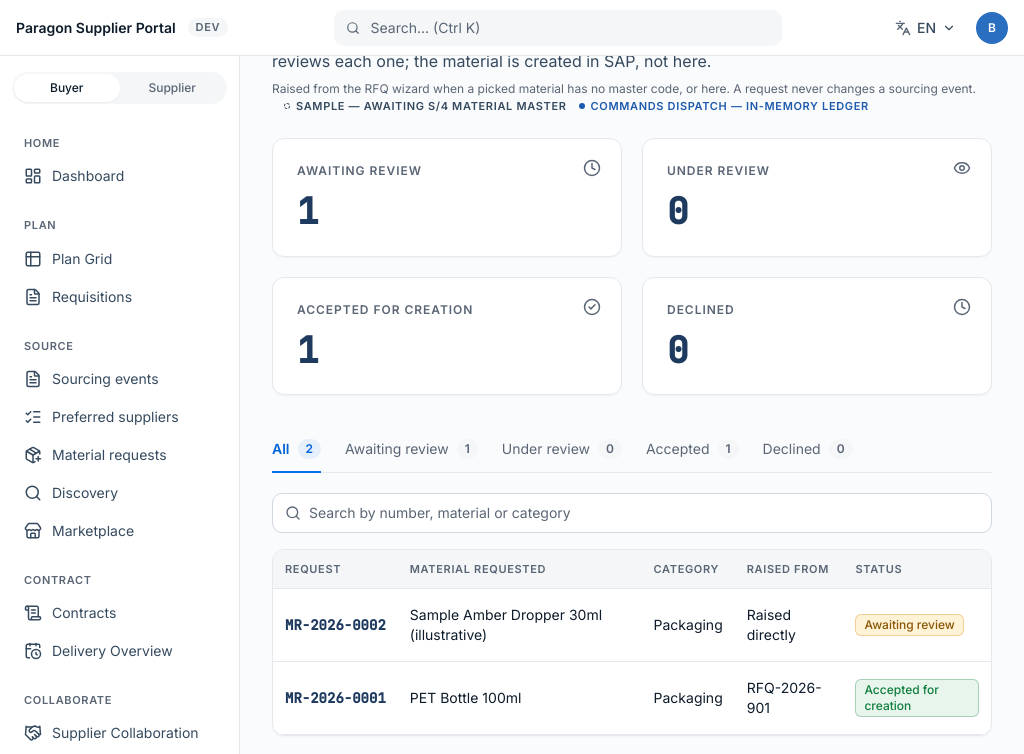
Test: the review and decision acts, per verb › ⚠️ AND THE OUTCOME LINE NEVER READS AS "CREATED"
(page scrolled)
Click the text "MR-2026-0001" at (632, 698), box [273,662,991,735]
(page scrolled)
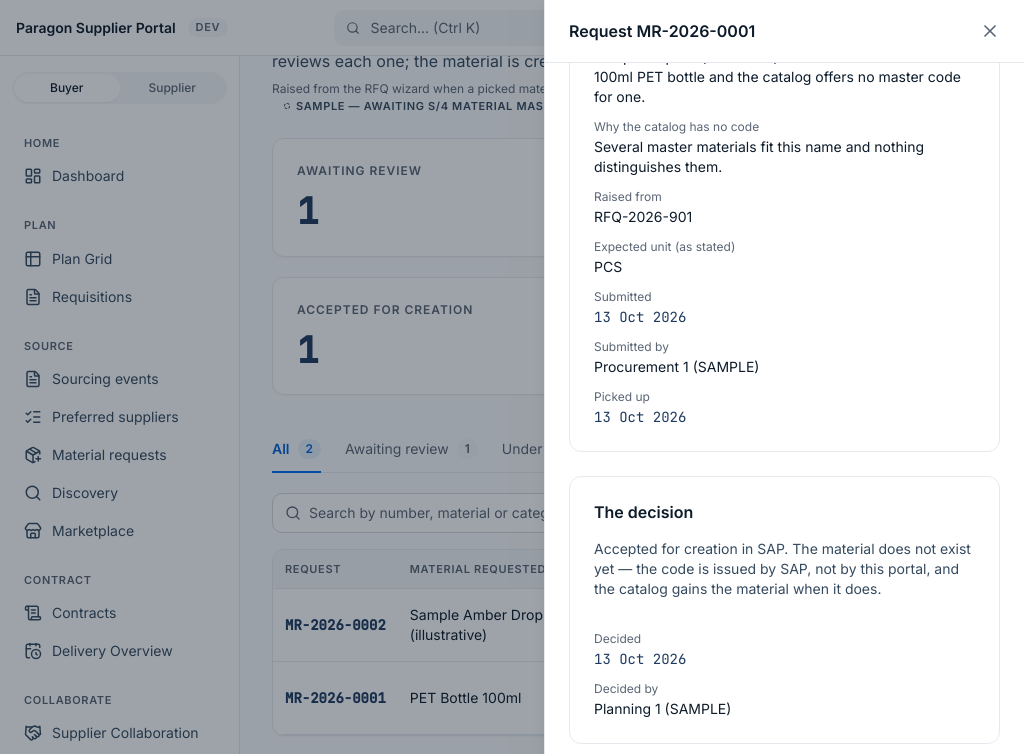
Expected: the text with test id "material-request-outcome" shows "does not exist yet", [594,540,971,597]
Expected: the text with test id "material-request-outcome" shows "issued by SAP", [594,540,971,597]
